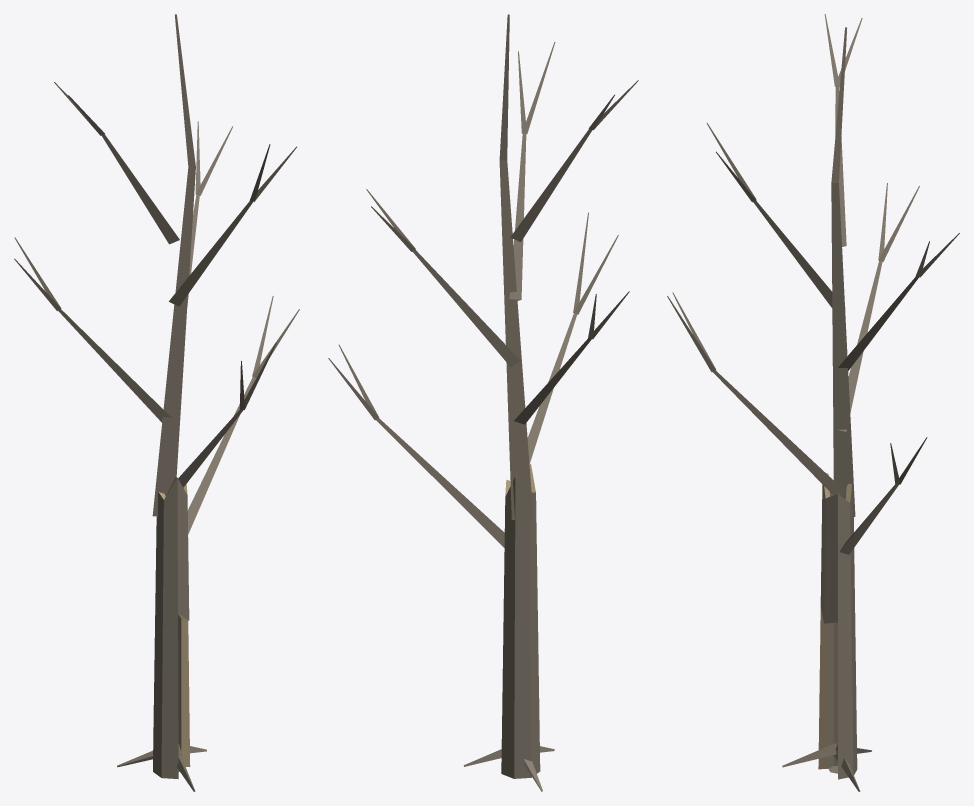
File: birch-dead-lod2.glb
3 renders of one model, left to right at view 1: azimuth 30°, elevation 25°; view 2: azimuth 150°, elevation 25°; view 3: azimuth 270°, elevation 25°, orthographic.
Visible parts, largest first — view 1: tree_birch-dead_LOD2; view 2: tree_birch-dead_LOD2; view 3: tree_birch-dead_LOD2.
Part boxes in pixels (x1,y1,x2,y2): tree_birch-dead_LOD2: [14, 14, 299, 791]; tree_birch-dead_LOD2: [328, 14, 638, 791]; tree_birch-dead_LOD2: [667, 14, 959, 791].
Bounding box in the file's own units: 4.8 × 12 × 4.26.
